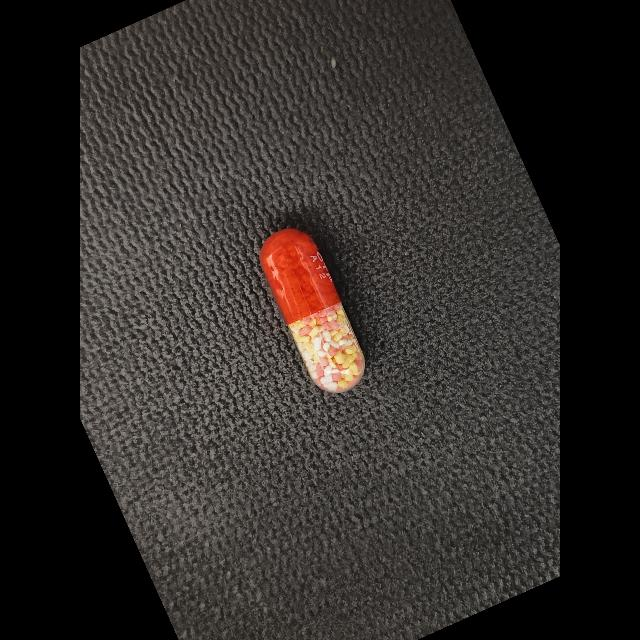Intact Capsule: (260, 229, 365, 393)
